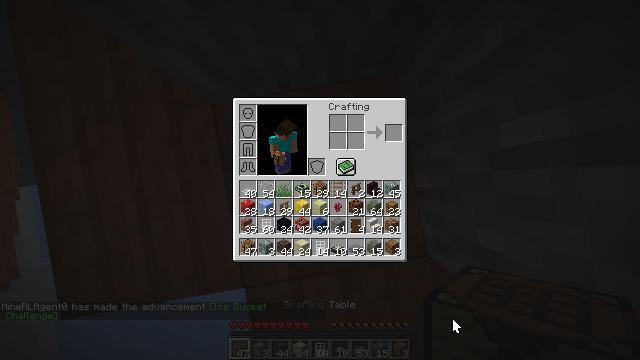cursor: (452, 318, 462, 334)
